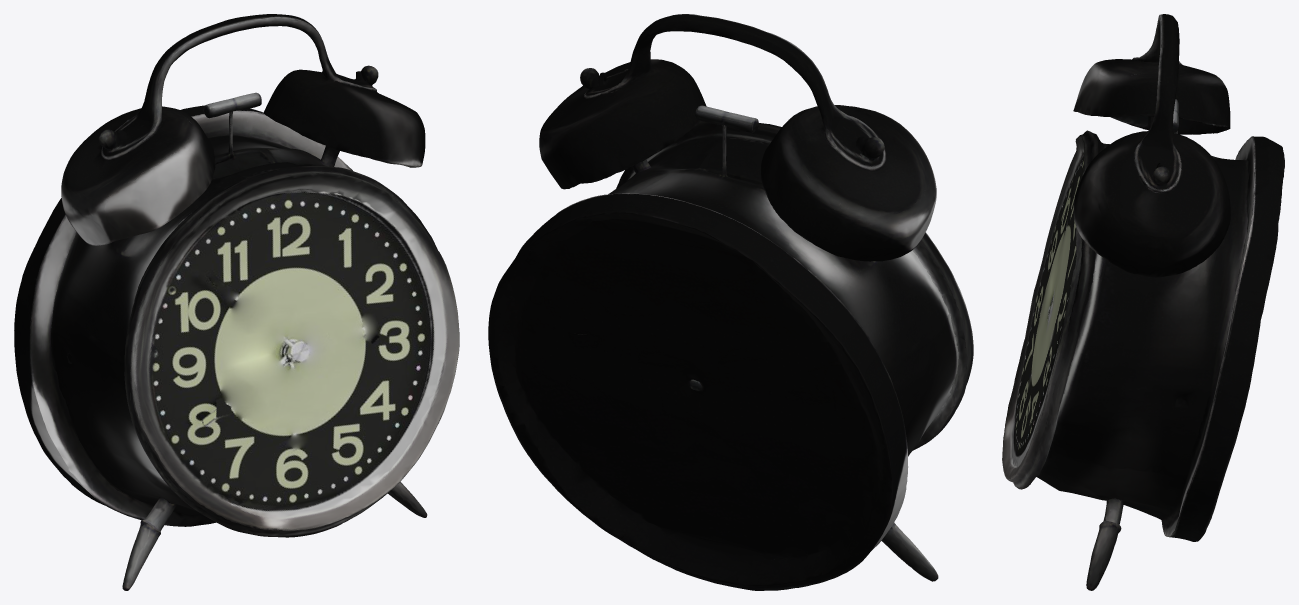
Rendered from sample(2).gltf.
3 renders of one model, left to right at view 1: azimuth 30°, elevation 25°; view 2: azimuth 150°, elevation 25°; view 3: azimuth 270°, elevation 25°, orthographic. The views are drawn at different scales.
Visible parts, largest first — view 1: world; view 2: world; view 3: world.
Part boxes in pixels (x1,y1,x2,y2): world: [14, 14, 459, 590]; world: [488, 14, 973, 590]; world: [1002, 14, 1284, 590].
Size of the model in its own units: 0.7599 by 1 by 0.5251.
Materials: 1 (1 with a texture image).
